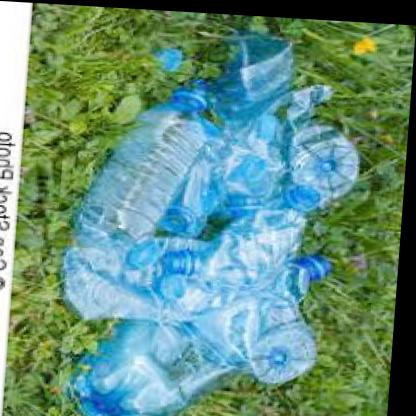Plastic: (92, 57, 220, 240), (234, 240, 344, 378), (85, 309, 219, 416), (219, 84, 286, 216), (284, 102, 362, 200)
